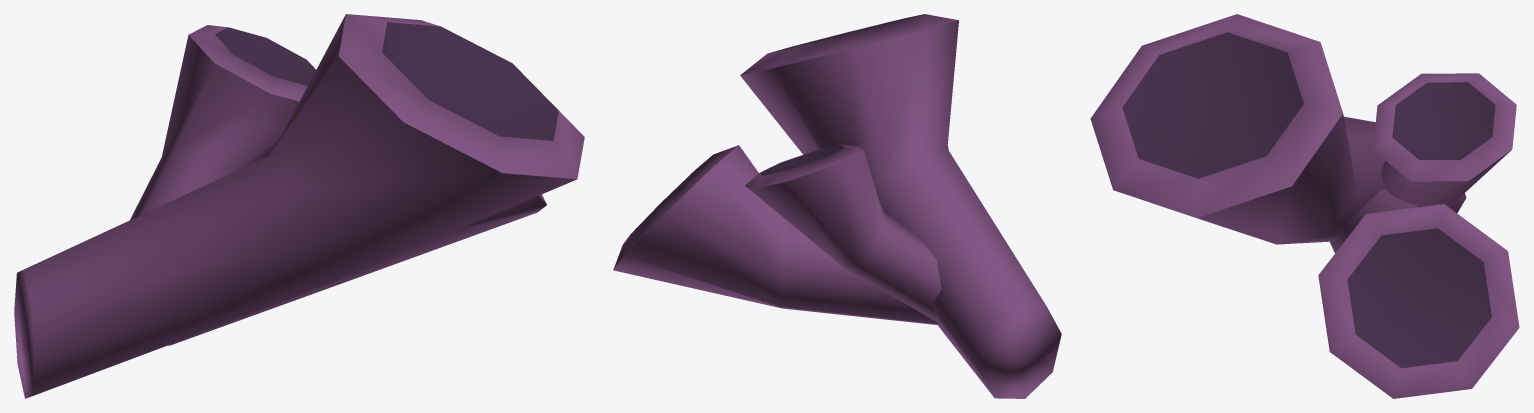
Rendered from Coral.fbx.
3 renders of one model, left to right at view 1: azimuth 30°, elevation 25°; view 2: azimuth 150°, elevation 25°; view 3: azimuth 270°, elevation 25°, orthographic. The views are drawn at different scales.
Visible parts, largest first — view 1: Coral; view 2: Coral; view 3: Coral.
Boxes of the visible parts, box(x1,y1,x2,y2) form: Coral: box(14, 14, 584, 398); Coral: box(613, 14, 1061, 398); Coral: box(1090, 14, 1519, 398).
Size of the model in its own units: 1.17 by 0.7613 by 0.9249.
